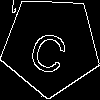C: (25, 20, 74, 77)
